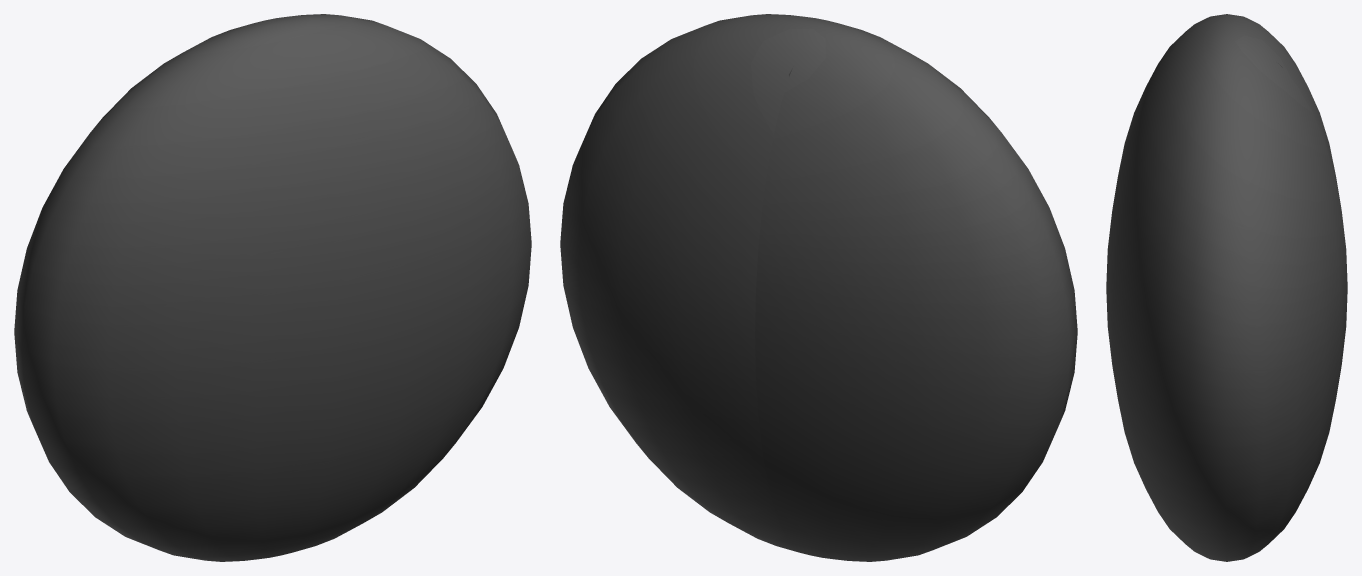
File: poignee.fbx
3 renders of one model, left to right at view 1: azimuth 30°, elevation 25°; view 2: azimuth 150°, elevation 25°; view 3: azimuth 270°, elevation 25°, orthographic. The views are drawn at different scales.
Visible parts, largest first — view 1: poignee; view 2: poignee; view 3: poignee.
Boxes of the visible parts, x1,y1,x2,y2 form: poignee: (14, 14, 531, 561); poignee: (560, 14, 1077, 561); poignee: (1106, 14, 1347, 561).
Size of the model in its own units: 16.82 by 16.82 by 7.41.
